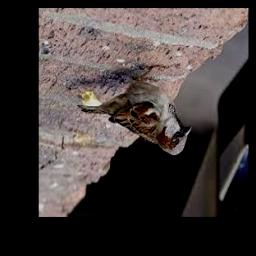Sparrow: (78, 67, 192, 157)
